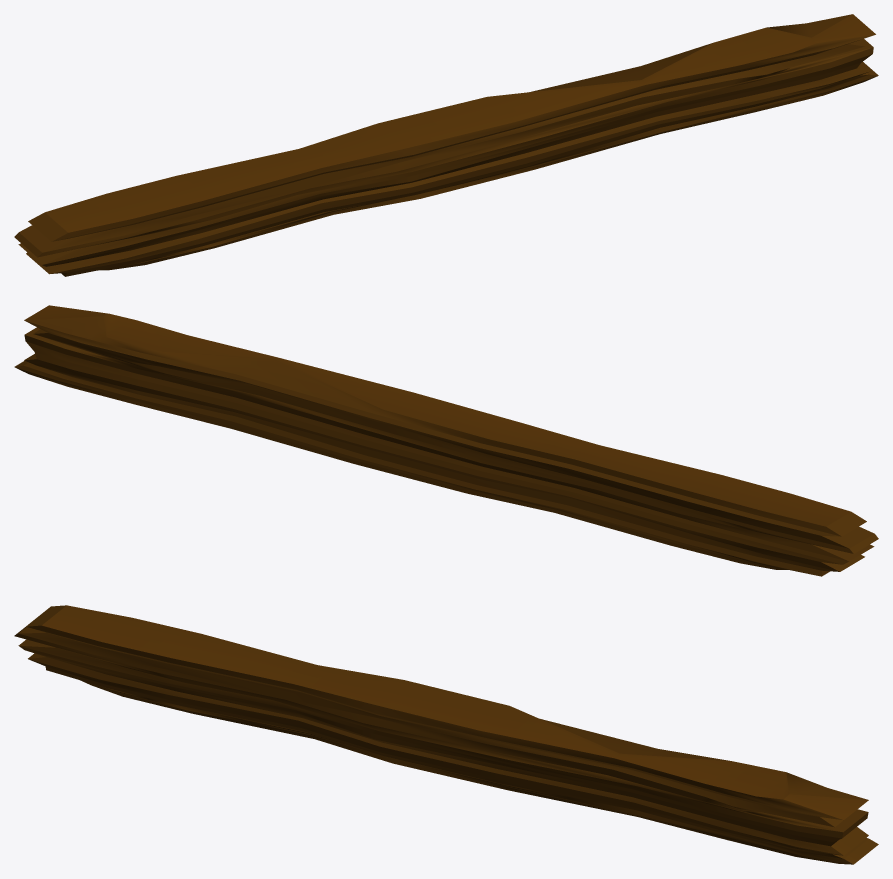
Rendered from SRTopWood.fbx.
3 renders of one model, top to bottom at view 1: azimuth 30°, elevation 25°; view 2: azimuth 150°, elevation 25°; view 3: azimuth 330°, elevation 25°, orthographic.
Parts seen in each view (by area): view 1: polySurface704; view 2: polySurface704; view 3: polySurface704.
Part boxes in pixels (<box>): polySurface704: <box>14,14,878,276</box>; polySurface704: <box>14,305,878,576</box>; polySurface704: <box>14,605,878,864</box>.
Bounding box in the file's own units: 4.43 × 0.3357 × 0.3392.
